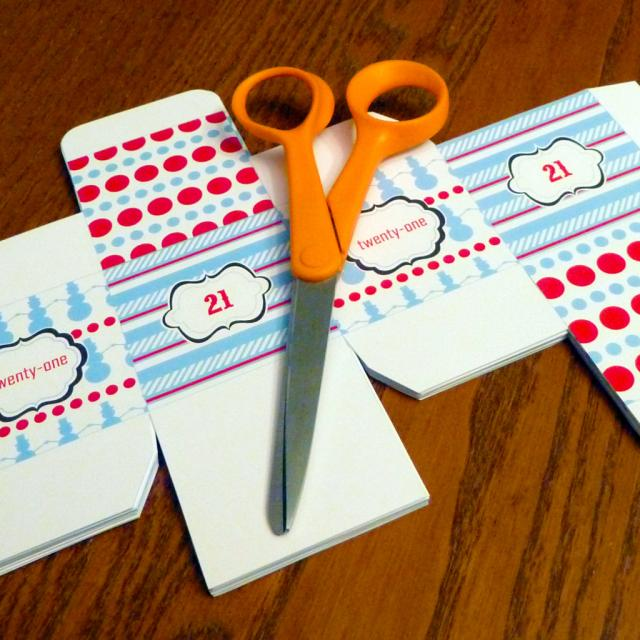scissors: (230, 59, 450, 533)
